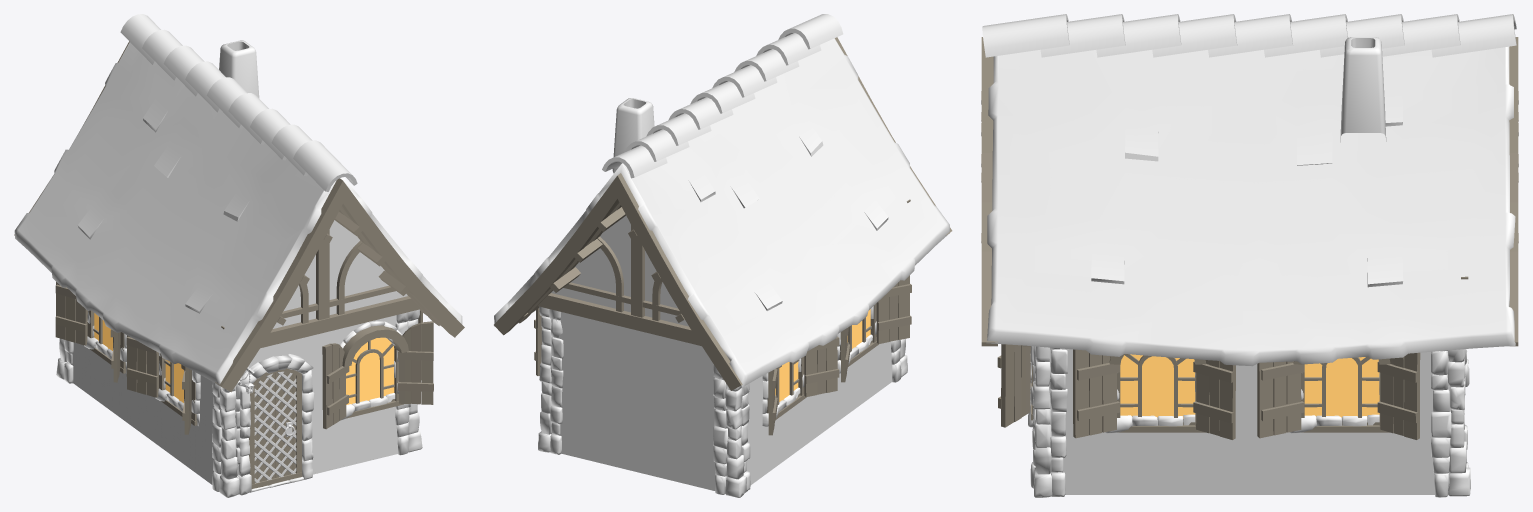
Rendered from icemantle_artisan_home.glb.
The picture shows the model from 3 angles, left to right: view 1: azimuth 30°, elevation 25°; view 2: azimuth 150°, elevation 25°; view 3: azimuth 270°, elevation 25°; orthographic projection. The views are drawn at different scales.
Visible parts, largest first — view 1: village/MI_FlatTiles, village/MI_UnevenBrick, village/MI_WoodTrim_Wear, village/MI_WoodTrim, village/MI_RockTrim, village/MI_RoundTiles, village/MI_WindowGlass, village/MI_MetalOrnaments; view 2: village/MI_FlatTiles, village/MI_UnevenBrick, village/MI_WoodTrim, village/MI_RockTrim, village/MI_RoundTiles, village/MI_WoodTrim_Wear, village/MI_WindowGlass; view 3: village/MI_FlatTiles, village/MI_UnevenBrick, village/MI_WoodTrim_Wear, village/MI_RoundTiles, village/MI_RockTrim, village/MI_WindowGlass, village/MI_WoodTrim.
Part boxes in pixels (x1,y1,x2,y2): village/MI_FlatTiles: (14,42,462,385); village/MI_UnevenBrick: (72,40,407,484); village/MI_WoodTrim_Wear: (55,282,433,488); village/MI_WoodTrim: (14,41,464,392); village/MI_RockTrim: (56,309,422,497); village/MI_RoundTiles: (120,14,357,191); village/MI_WindowGlass: (94,313,394,404); village/MI_MetalOrnaments: (254,371,296,483); village/MI_FlatTiles: (494,38,949,387); village/MI_UnevenBrick: (549,98,892,490); village/MI_WoodTrim: (494,37,952,390); village/MI_RockTrim: (538,306,907,497); village/MI_RoundTiles: (602,14,843,178); village/MI_WoodTrim_Wear: (534,275,911,435); village/MI_WindowGlass: (775,309,870,401); village/MI_FlatTiles: (986,46,1515,366); village/MI_UnevenBrick: (1037,37,1462,494); village/MI_WoodTrim_Wear: (997,344,1420,439); village/MI_RoundTiles: (982,14,1516,57); village/MI_RockTrim: (1028,346,1470,497); village/MI_WindowGlass: (1120,354,1379,418); village/MI_WoodTrim: (981,37,1518,346).
Size of the model in its own units: 5.7 by 6.53 by 7.59.
